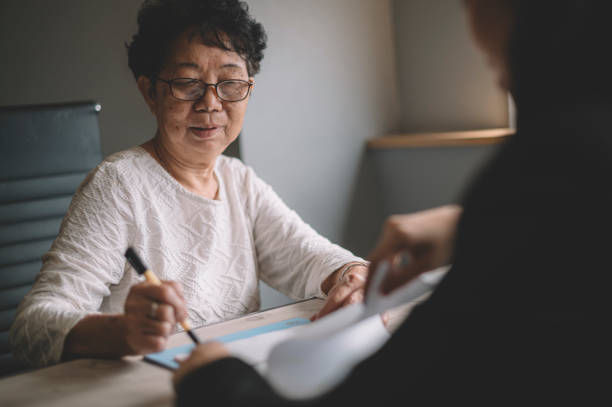face: (158, 51, 251, 157)
